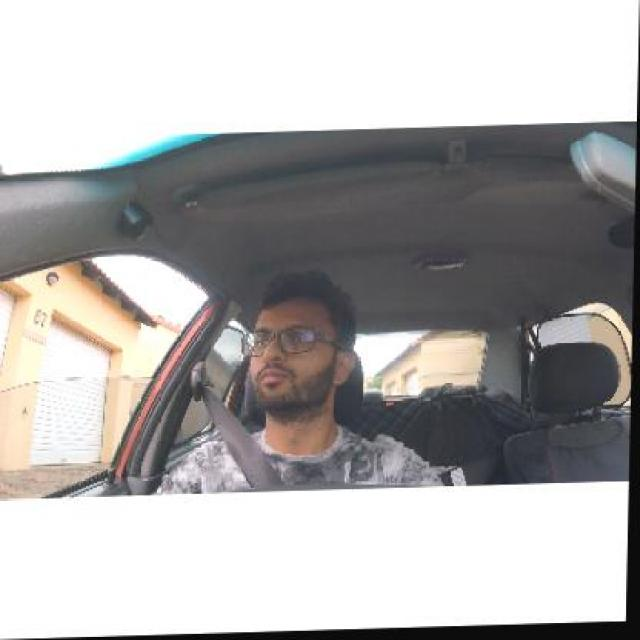person: (226, 268, 365, 410)
